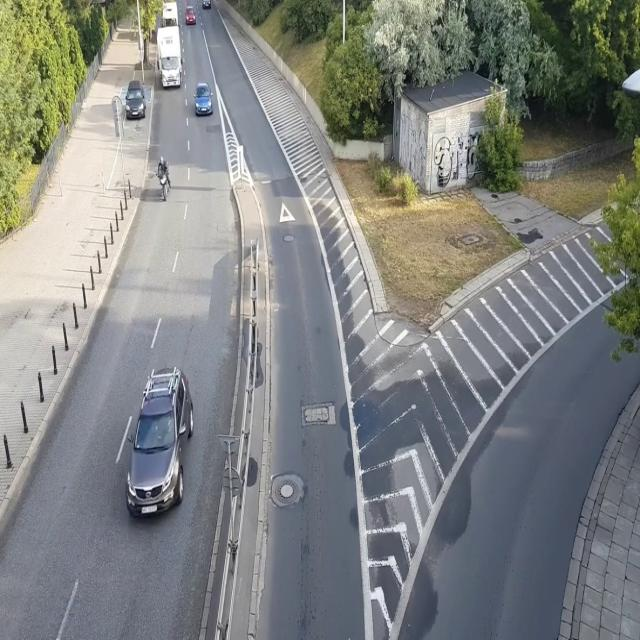car: (124, 364, 194, 521), (124, 80, 147, 120), (194, 81, 213, 117), (184, 7, 196, 26), (201, 0, 211, 12)
motorcycle: (156, 155, 172, 201)
truck: (156, 25, 184, 90), (161, 1, 181, 29)
